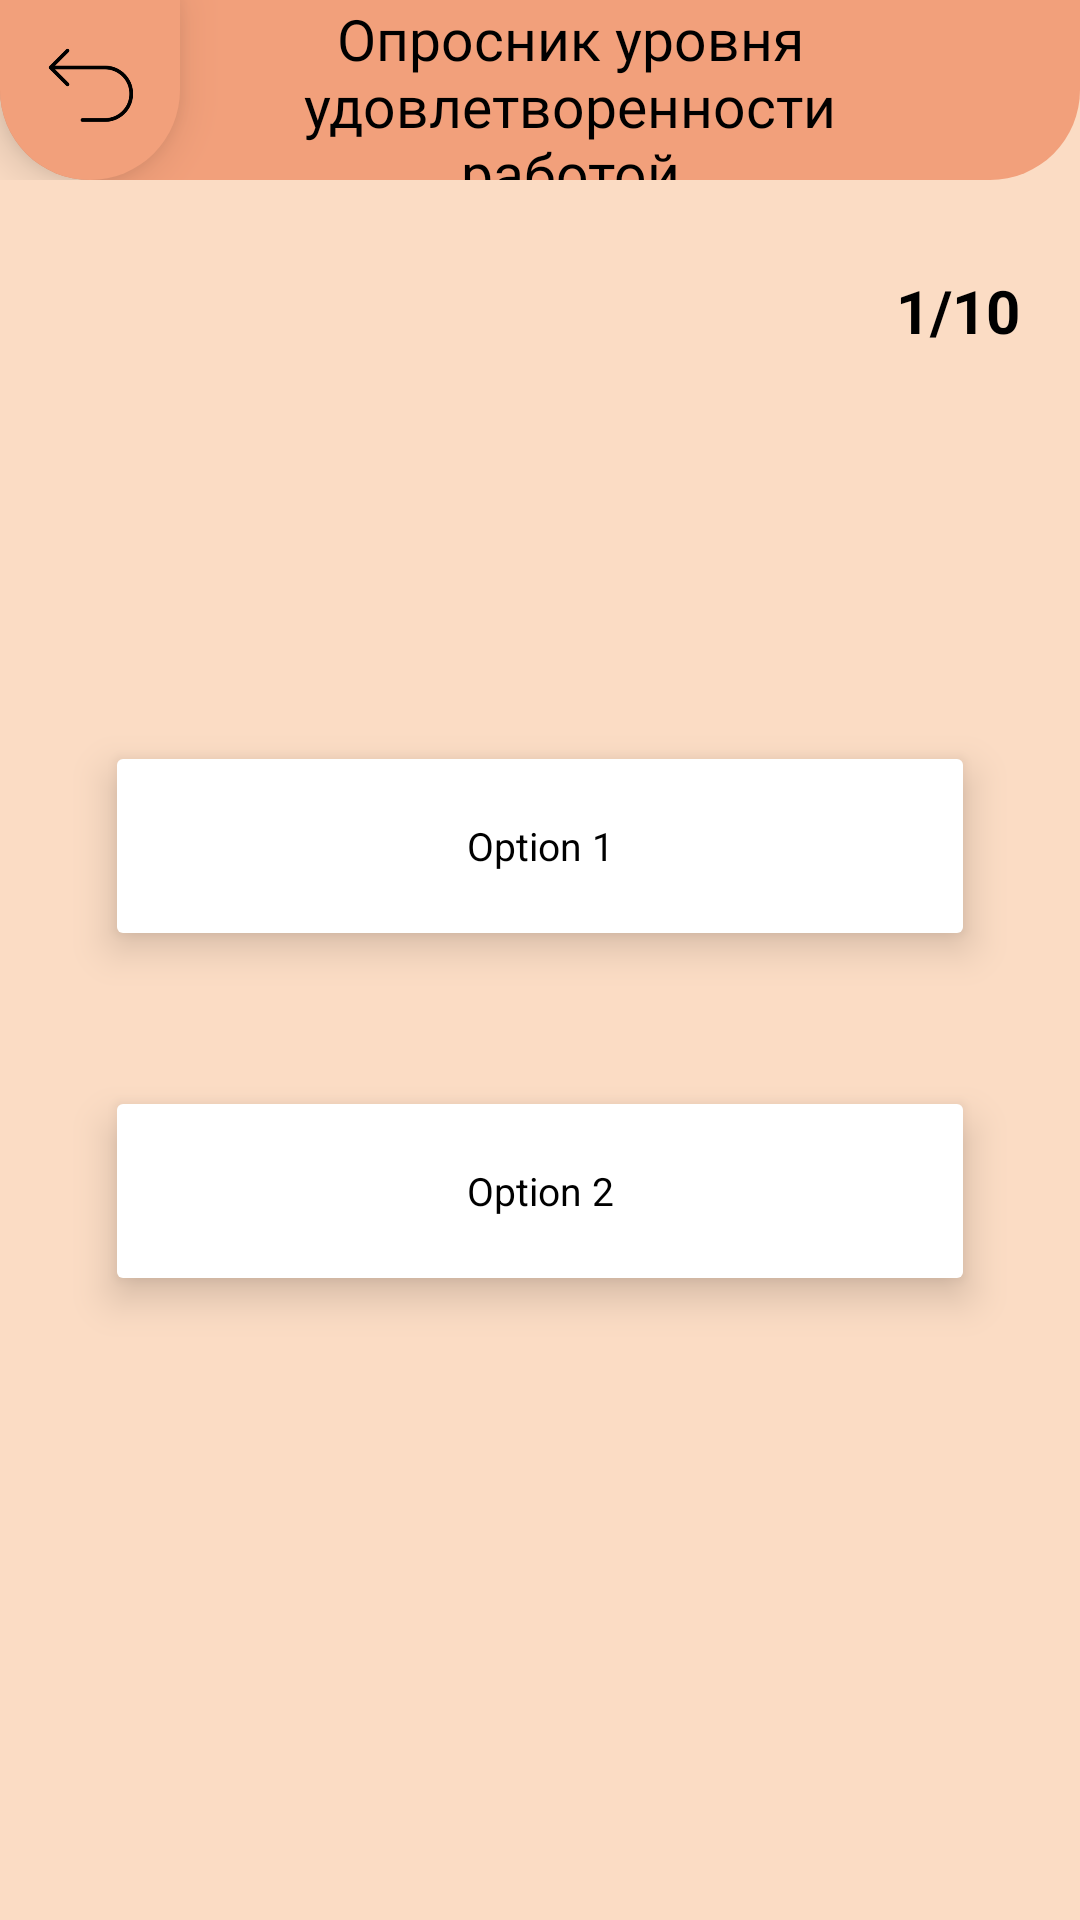

Where icons sit on this 1080w x 1920h app screen, as (x1,y1,x2,y2):
back: (49,49,133,122)
